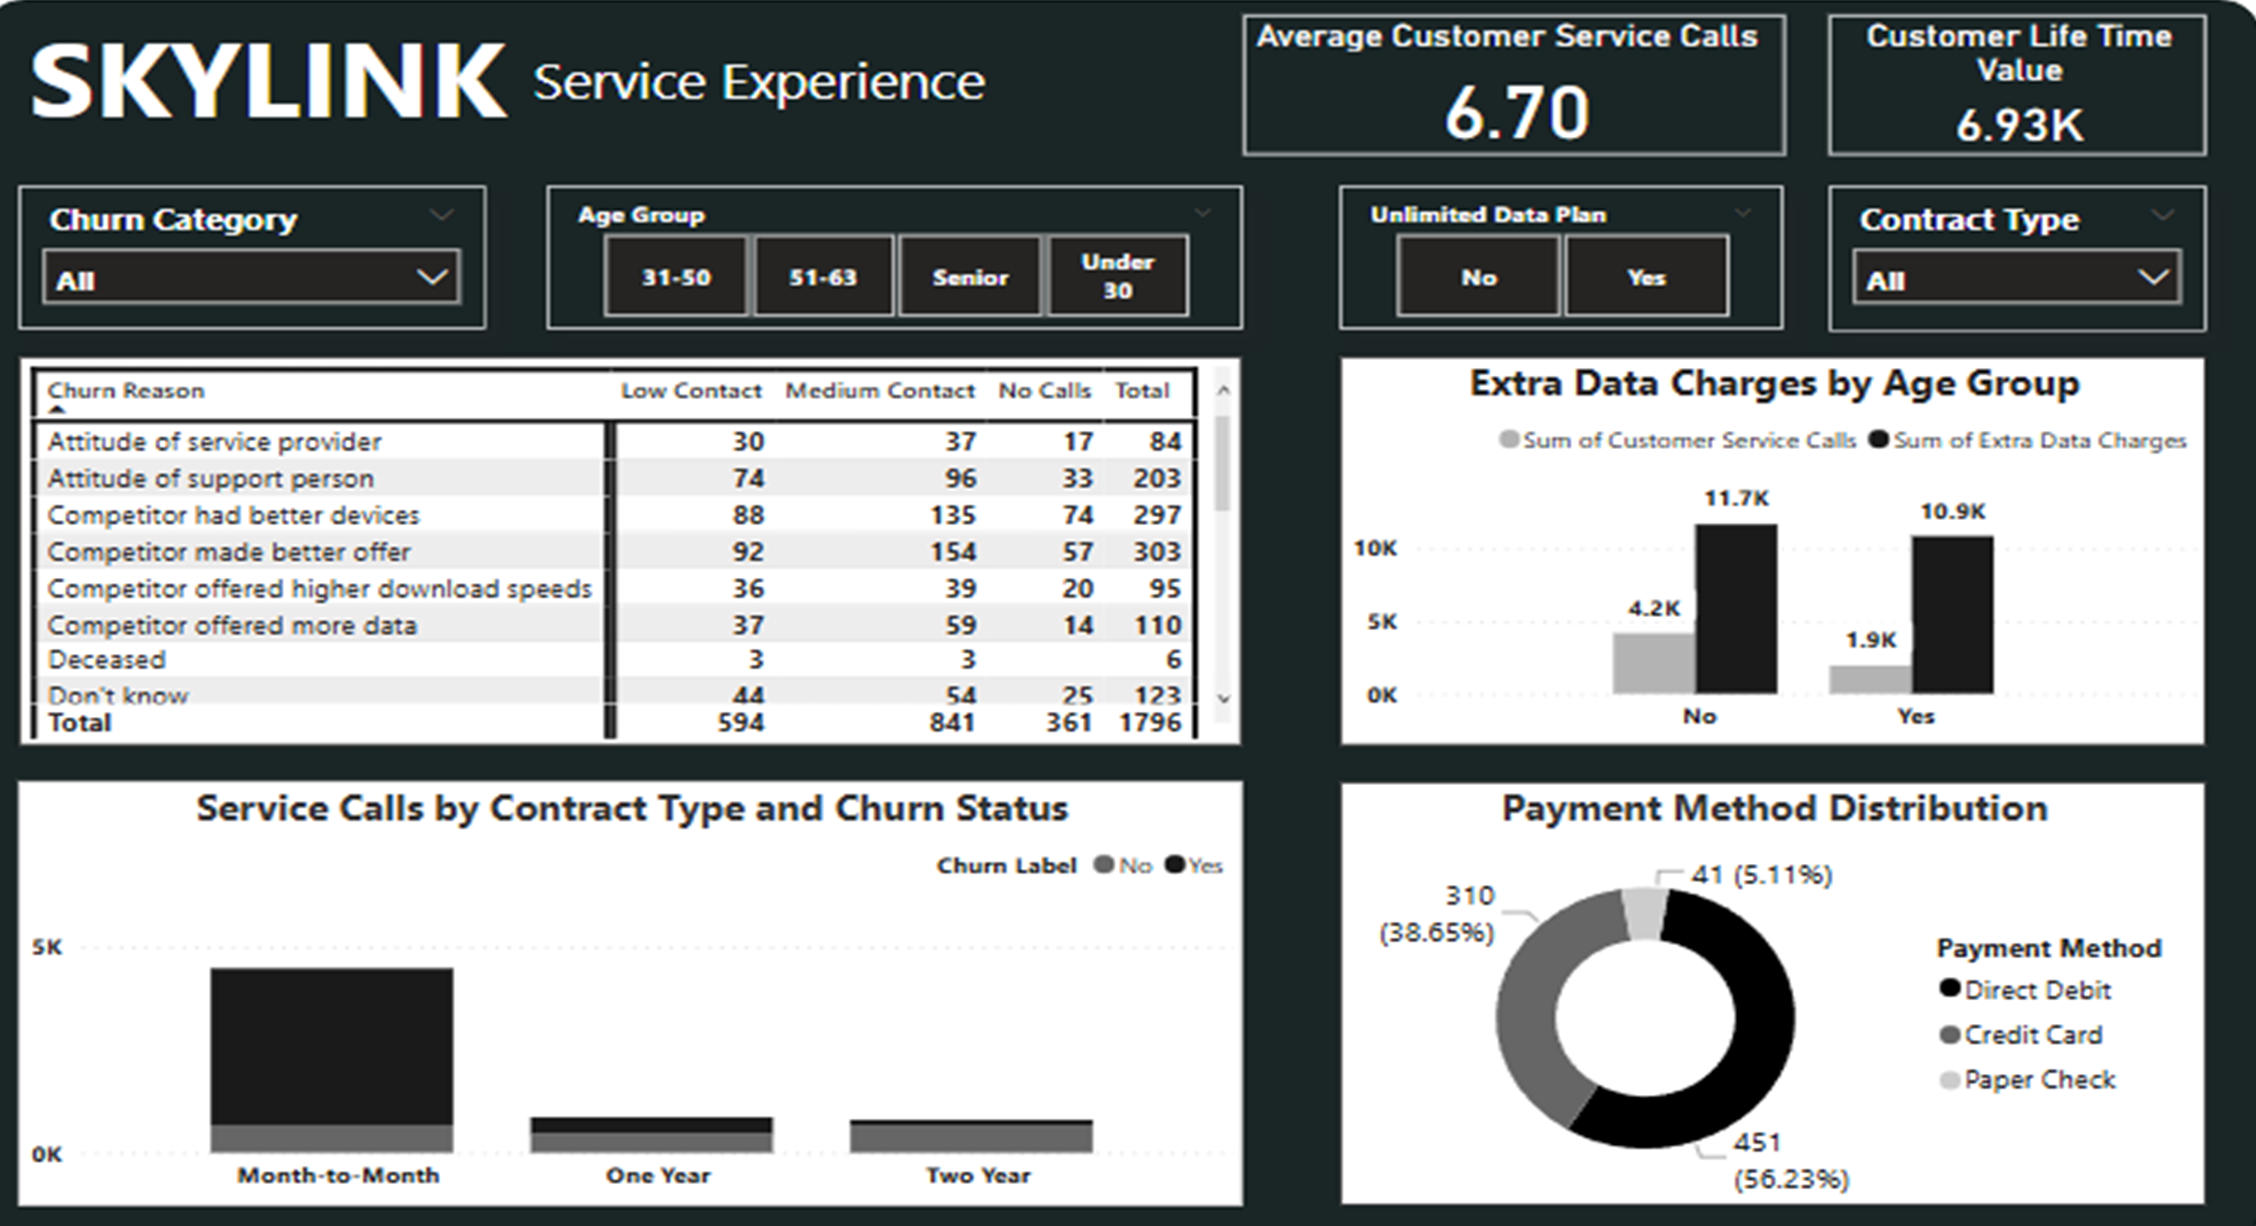

What the dashboard file says about the page in this screenshot:
{"tool":"powerbi","page":{"name":"Service Experience","canvas":[1280,720],"ordinal":3},"visuals":[{"type":"shape","box":[175,21.7,1093.3,685],"z":0},{"type":"card","title":"Customer Life Time Value","fields":{"Values":["Key Measures & KPIs.Customer Lifetime Value"]},"box":[1061.4,30,181.4,77.1],"z":1000},{"type":"actionButton","box":[8.6,204.3,165.7,54.3],"z":2000},{"type":"card","title":"Average Customer Service Calls","fields":{"Values":["Key Measures & KPIs.Avg Customer Service Calls"]},"box":[780,30,260,77.1],"z":3000},{"type":"textbox","box":[193.3,21.7,248.3,100],"z":4000},{"type":"textbox","box":[435,41.7,293.3,58.3],"z":5000},{"type":"donutChart","title":"Payment Method Distribution","fields":{"Category":["SkyLink - Dataset.Payment Method"],"Y":["CountNonNull(SkyLink - Dataset.Churn Label)"]},"box":[827.1,450,415.7,232.9],"z":7000},{"type":"slicer","fields":{"Values":["SkyLink - Dataset.Age Group"]},"box":[445.7,124.3,334.3,78.6],"z":8000},{"type":"slicer","fields":{"Values":["SkyLink - Dataset.Churn Category"]},"box":[192.9,124.3,224.3,78.6],"z":9000},{"type":"slicer","fields":{"Values":["SkyLink - Dataset.Unlimited Data Plan"]},"box":[827.1,124.3,212.9,78.6],"z":10000},{"type":"slicer","fields":{"Values":["SkyLink - Dataset.Contract Type"]},"box":[1061.4,124.3,181.4,80],"z":11000},{"type":"shape","box":[0,382.9,208.6,77.1],"z":12000},{"type":"actionButton","box":[8.6,287.1,165.7,54.3],"z":13000},{"type":"actionButton","box":[34.3,382.9,140,77.1],"z":14000},{"type":"columnChart","title":"Service Calls by Contract Type and Churn Status","fields":{"Category":["SkyLink - Dataset.Contract Type"],"Y":["Sum(SkyLink - Dataset.Customer Service Calls)"],"Series":["SkyLink - Dataset.Churn Label"]},"box":[192.9,450,587.1,232.9],"z":15000},{"type":"lineClusteredColumnComboChart","title":"Extra Data Charges by Age Group ","fields":{"Category":["SkyLink - Dataset.Device Protection & Online Backup"],"Y":["Sum(SkyLink - Dataset.Customer Service Calls)","Sum(SkyLink - Dataset.Extra Data Charges)"]},"box":[827.1,217.1,415.7,214.3],"z":16000},{"type":"pivotTable","fields":{"Rows":["SkyLink - Dataset.Churn Reason"],"Values":["Key Measures & KPIs.Churned Customers"],"Columns":["SkyLink - Dataset.Customer Service Call Category"]},"box":[192.9,217.1,587.1,214.3],"z":17000}]}

Visuals, with their boxes on the page's 1280x720 design canvas (x1, y1, x2, y2). These are canvas units, not pixel positions in the 2256x1226 screenshot, which may show the page scaled, cropped or inside an application window:
shape: (left=175, top=22, right=1268, bottom=707)
"Customer Life Time Value" card: (left=1061, top=30, right=1243, bottom=107)
actionButton: (left=9, top=204, right=174, bottom=259)
"Average Customer Service Calls" card: (left=780, top=30, right=1040, bottom=107)
textbox: (left=193, top=22, right=442, bottom=122)
textbox: (left=435, top=42, right=728, bottom=100)
"Payment Method Distribution" donutChart: (left=827, top=450, right=1243, bottom=683)
slicer - SkyLink - Dataset.Age Group: (left=446, top=124, right=780, bottom=203)
slicer - SkyLink - Dataset.Churn Category: (left=193, top=124, right=417, bottom=203)
slicer - SkyLink - Dataset.Unlimited Data Plan: (left=827, top=124, right=1040, bottom=203)
slicer - SkyLink - Dataset.Contract Type: (left=1061, top=124, right=1243, bottom=204)
shape: (left=0, top=383, right=209, bottom=460)
actionButton: (left=9, top=287, right=174, bottom=341)
actionButton: (left=34, top=383, right=174, bottom=460)
"Service Calls by Contract Type and Churn Status" columnChart: (left=193, top=450, right=780, bottom=683)
"Extra Data Charges by Age Group " lineClusteredColumnComboChart: (left=827, top=217, right=1243, bottom=431)
pivotTable - SkyLink - Dataset.Churn Reason x Key Measures & KPIs.Churned Customers: (left=193, top=217, right=780, bottom=431)
